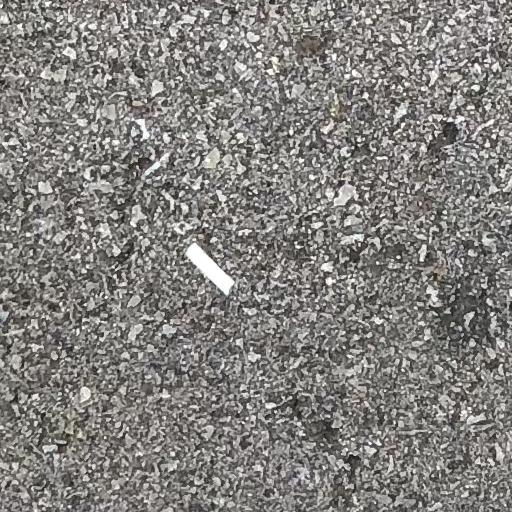smoke: (187, 243, 234, 295)
